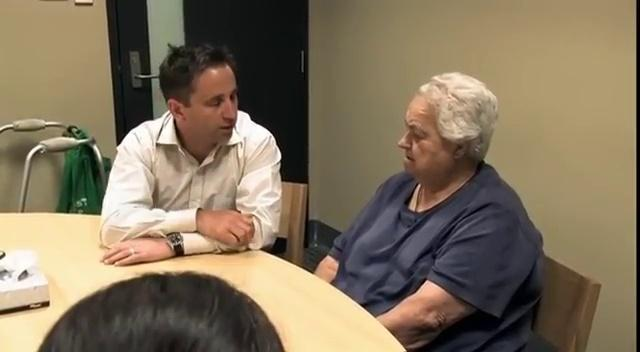nurse: (35, 269, 286, 351)
others: (98, 41, 283, 267)
patient: (313, 70, 545, 351)
